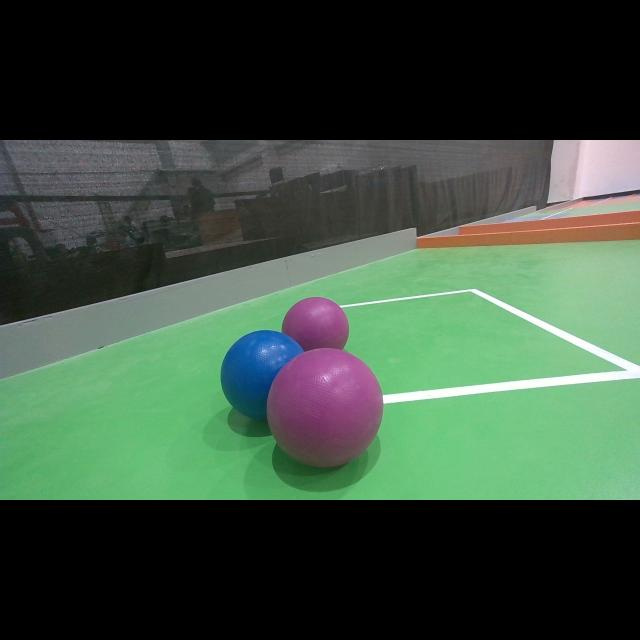B: (220, 330, 308, 420)
P: (266, 348, 384, 468), (278, 296, 346, 350)
